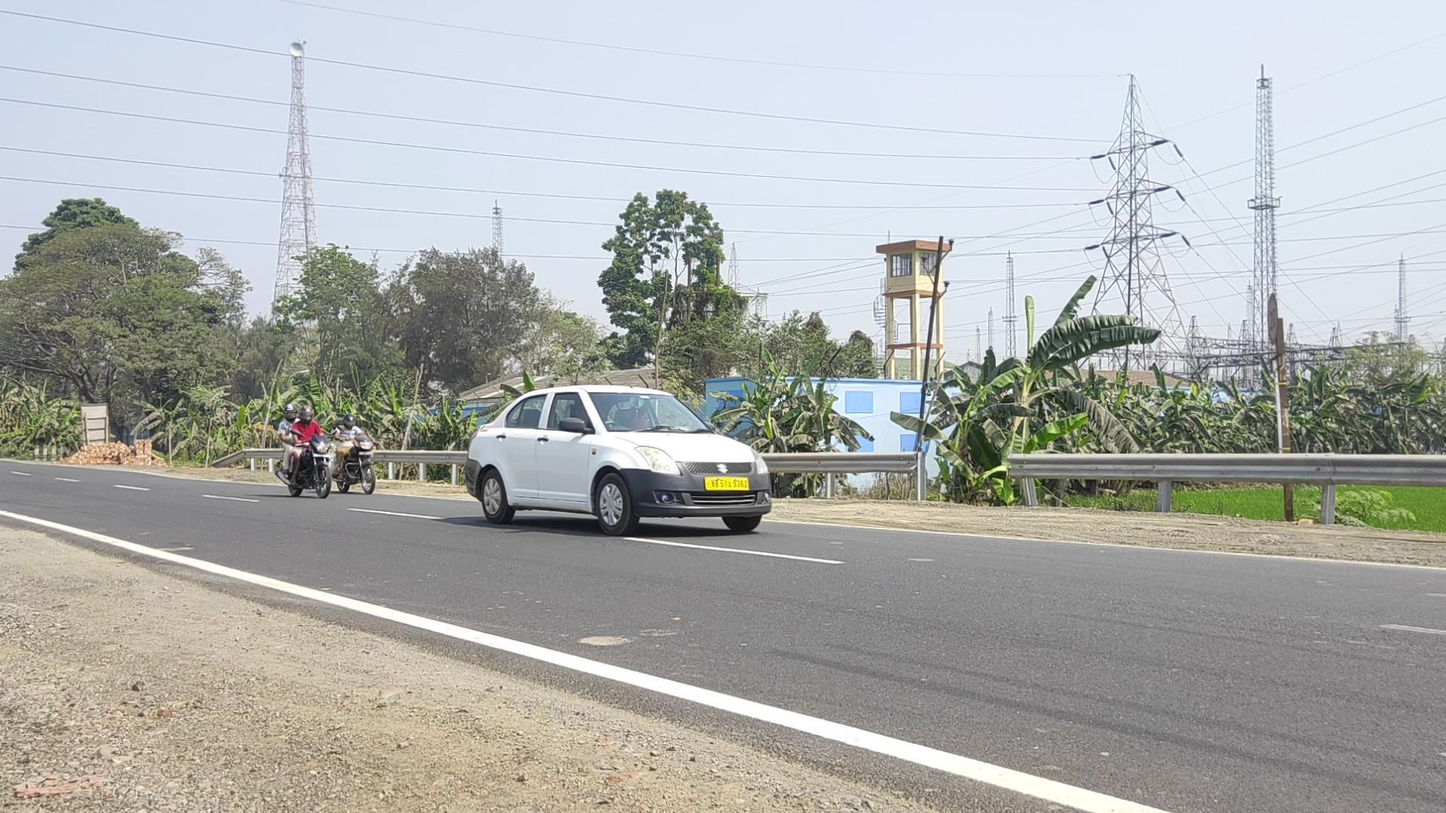bike: (274, 404, 337, 498), (328, 413, 376, 495)
car: (465, 385, 772, 537)
